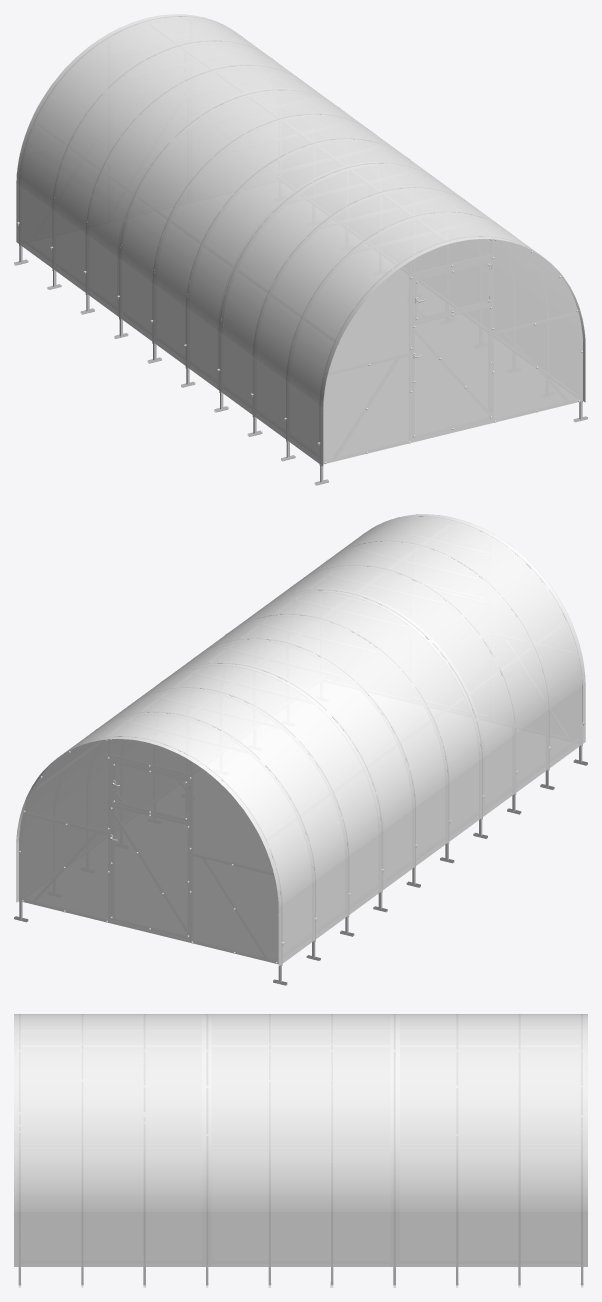
Rendered from greenhouse-transformed.glb.
3 renders of one model, top to bottom at view 1: azimuth 30°, elevation 25°; view 2: azimuth 150°, elevation 25°; view 3: azimuth 270°, elevation 25°, orthographic. The views are drawn at different scales.
Parts seen in each view (by area): view 1: Object_2, Object_167, Object_199, Object_147, Object_190, Object_209, Object_213; view 2: Object_2, Object_179, Object_157, Object_209, Object_147, Object_218; view 3: Object_2, Object_167, Object_157, Object_179, Object_209, Object_213, Object_190, Object_218, Object_147, Object_199, Object_177.
Part boxes in pixels (x1,y1,x2,y2): Object_2: (16, 14, 585, 466); Object_167: (50, 40, 319, 465); Object_199: (150, 113, 368, 344); Object_147: (118, 138, 410, 368); Object_190: (151, 162, 430, 392); Object_209: (18, 64, 300, 294); Object_213: (80, 187, 466, 417); Object_2: (16, 514, 585, 966); Object_179: (337, 540, 551, 912); Object_157: (161, 662, 384, 917); Object_209: (135, 687, 351, 942); Object_147: (225, 614, 451, 869); Object_218: (18, 736, 284, 966); Object_2: (14, 1014, 587, 1266); Object_167: (81, 1014, 520, 1287); Object_157: (393, 1014, 395, 1268); Object_179: (81, 1014, 83, 1268); Object_209: (456, 1014, 458, 1268); Object_213: (143, 1014, 519, 1268); Object_190: (206, 1014, 208, 1268); Object_218: (21, 1014, 582, 1283); Object_147: (269, 1014, 457, 1268); Object_199: (331, 1014, 332, 1268); Object_177: (19, 1014, 20, 1268).
Bounding box in the file's own units: 3.13 × 2.33 × 6.1.
5 materials, 1 textured.
